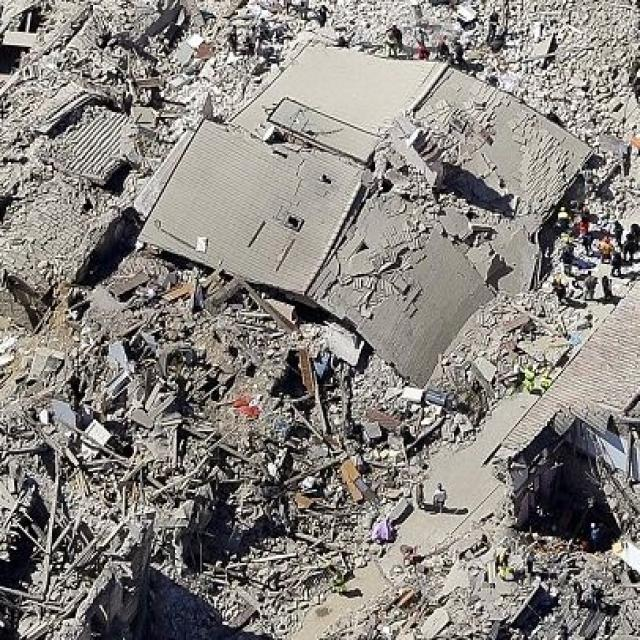collapsed_building: (121, 27, 592, 311), (9, 314, 347, 597), (481, 384, 638, 638)
